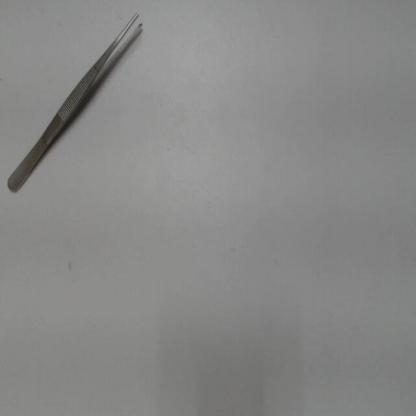Gillies Toothed Dissector: (2, 9, 153, 203)
